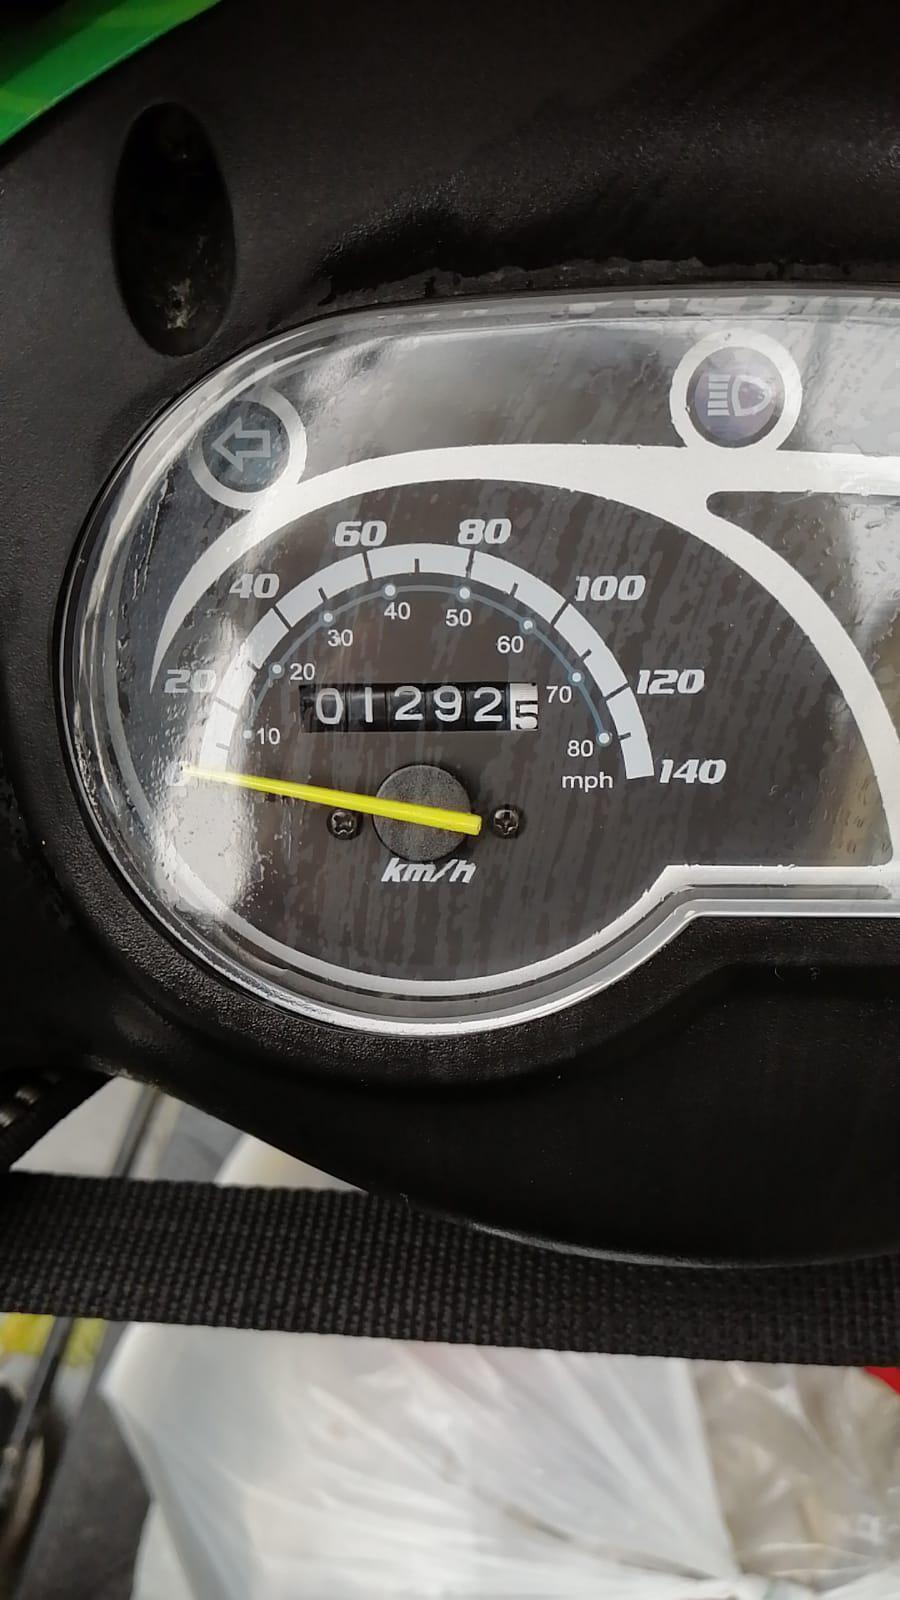0: (312, 684, 344, 726)
1: (360, 684, 378, 727)
2: (473, 684, 505, 725), (392, 684, 423, 723)
5: (512, 698, 541, 731)
9: (431, 685, 463, 726)
odometer: (295, 679, 544, 735)
